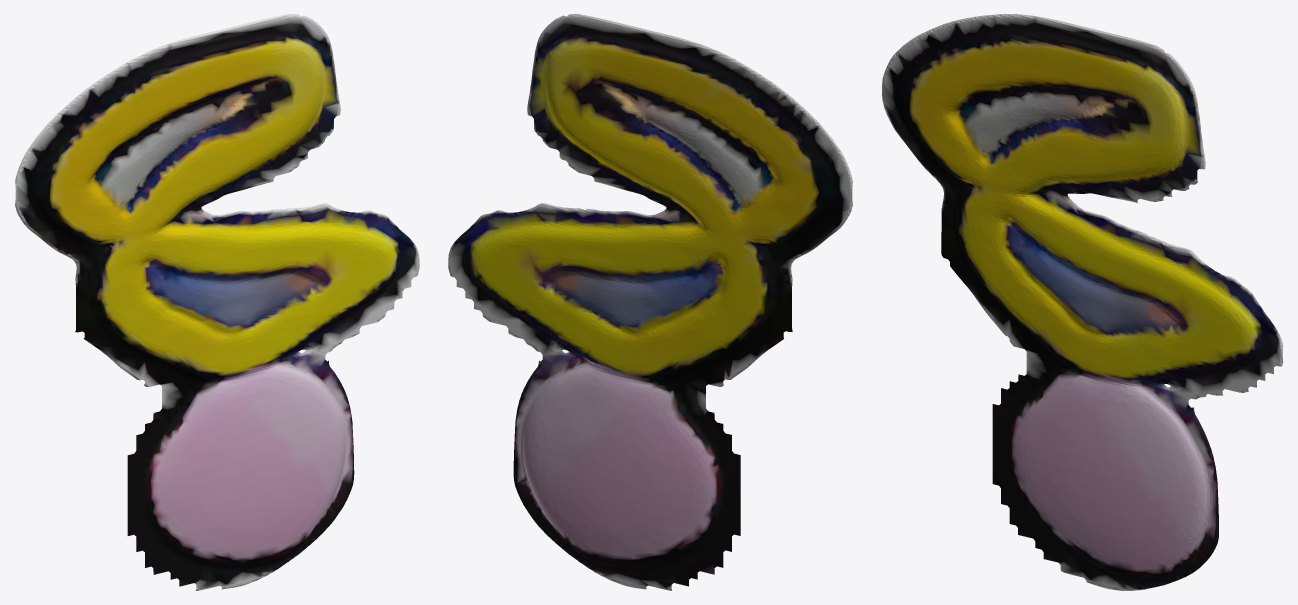
File: amulet_deflection.glb
3 views of the same model, side by side, from view 1: azimuth 30°, elevation 25°; view 2: azimuth 150°, elevation 25°; view 3: azimuth 330°, elevation 25° (orthographic).
Visible parts, largest first — view 1: geometry_0; view 2: geometry_0; view 3: geometry_0.
Boxes of the visible parts, box(x1,y1,x2,y2) form: geometry_0: box(15, 14, 419, 590); geometry_0: box(448, 14, 852, 590); geometry_0: box(882, 14, 1283, 590).
Size of the model in its own units: 0.5 by 0.6638 by 0.0341.
